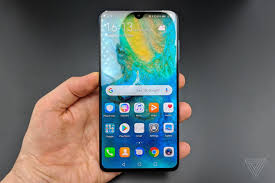huawei: (97, 9, 181, 172)
